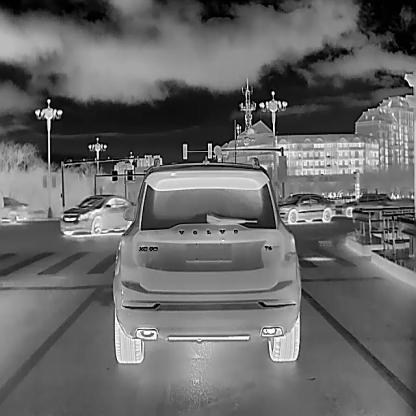car: (112, 157, 300, 363), (59, 192, 137, 235), (276, 192, 334, 222), (341, 192, 397, 215), (0, 195, 29, 223)
